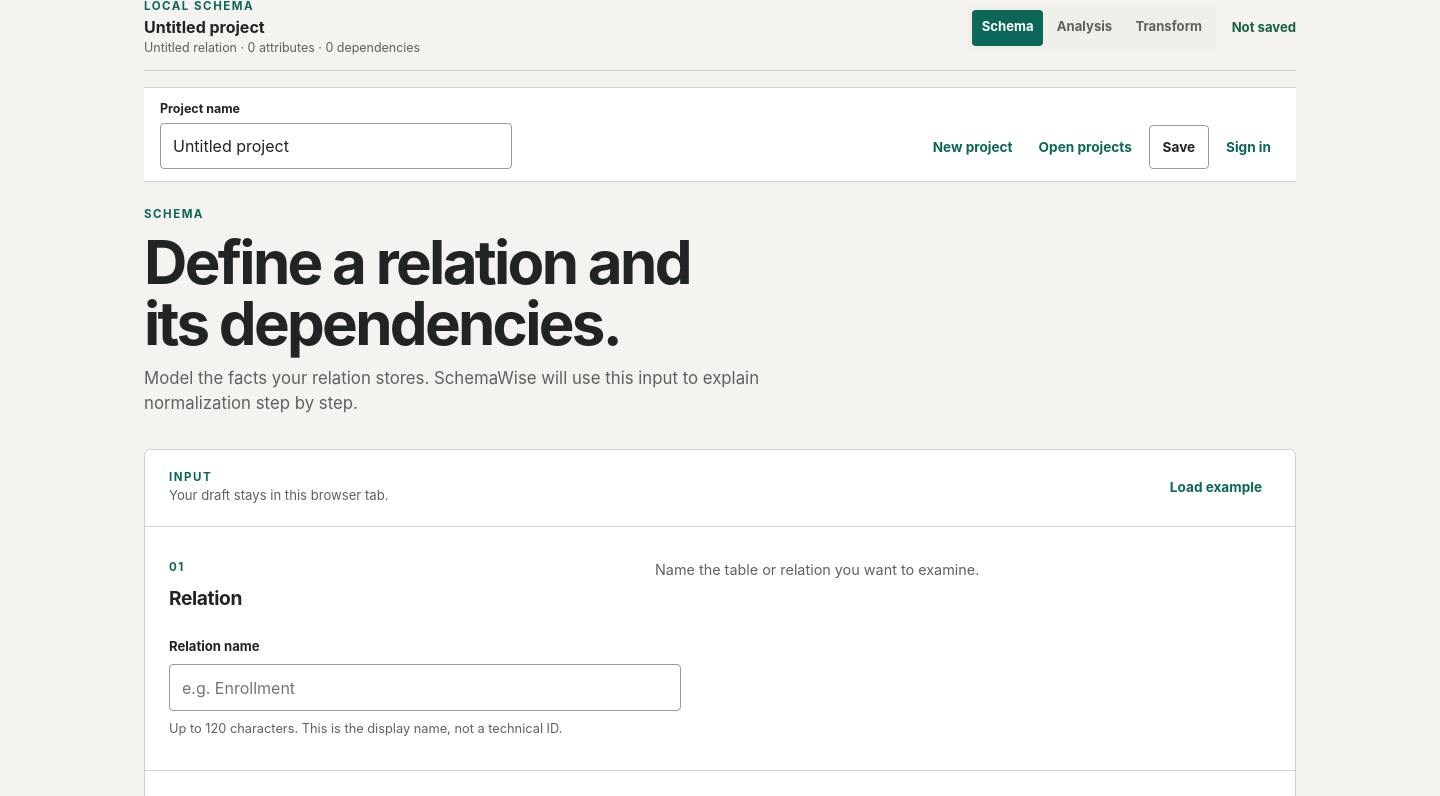
Test: normalization transformations › keeps a stale snapshot without results readable and blocks every generation
The width and height of the screenshot is (1440, 796).
Click the button "Load example" at point(1216, 488), box [1161, 466, 1271, 510]
(page scrolled)
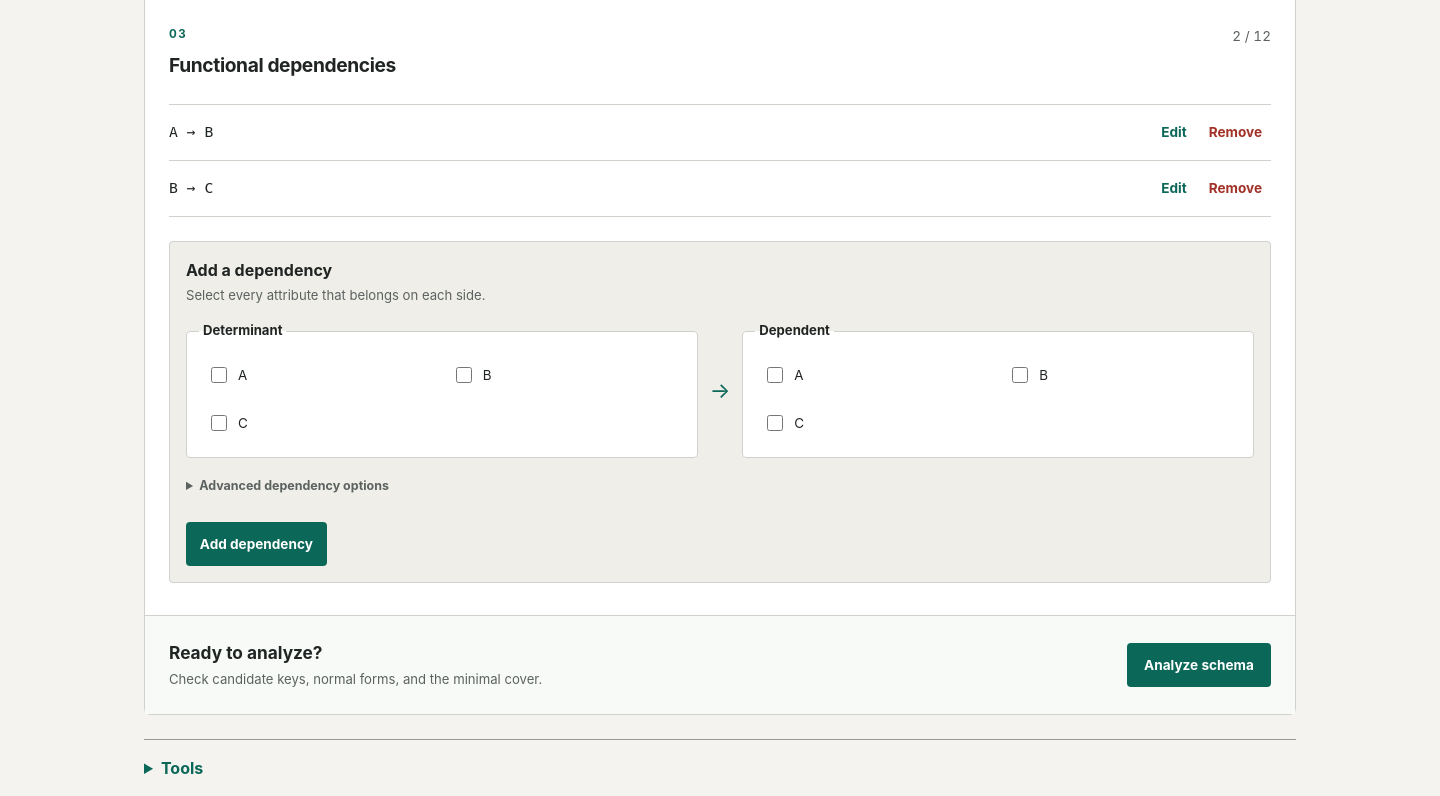
Click the button "Analyze schema" at point(1199, 665), box [1127, 643, 1271, 687]
(page scrolled)
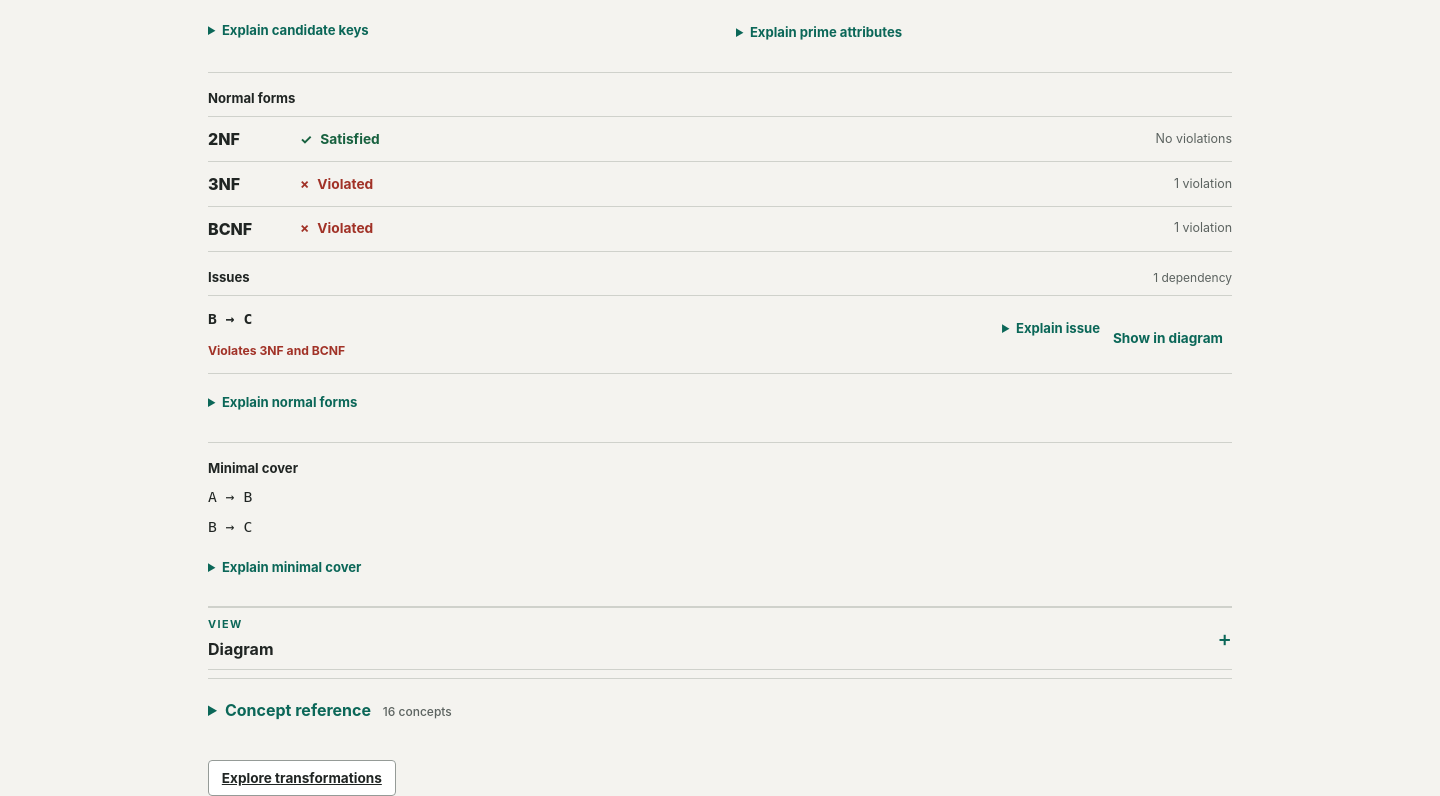
Now the link "Explore transformations" is shown
Click the link "Explore transformations" at point(302, 778), box [208, 760, 396, 795]
(page scrolled)
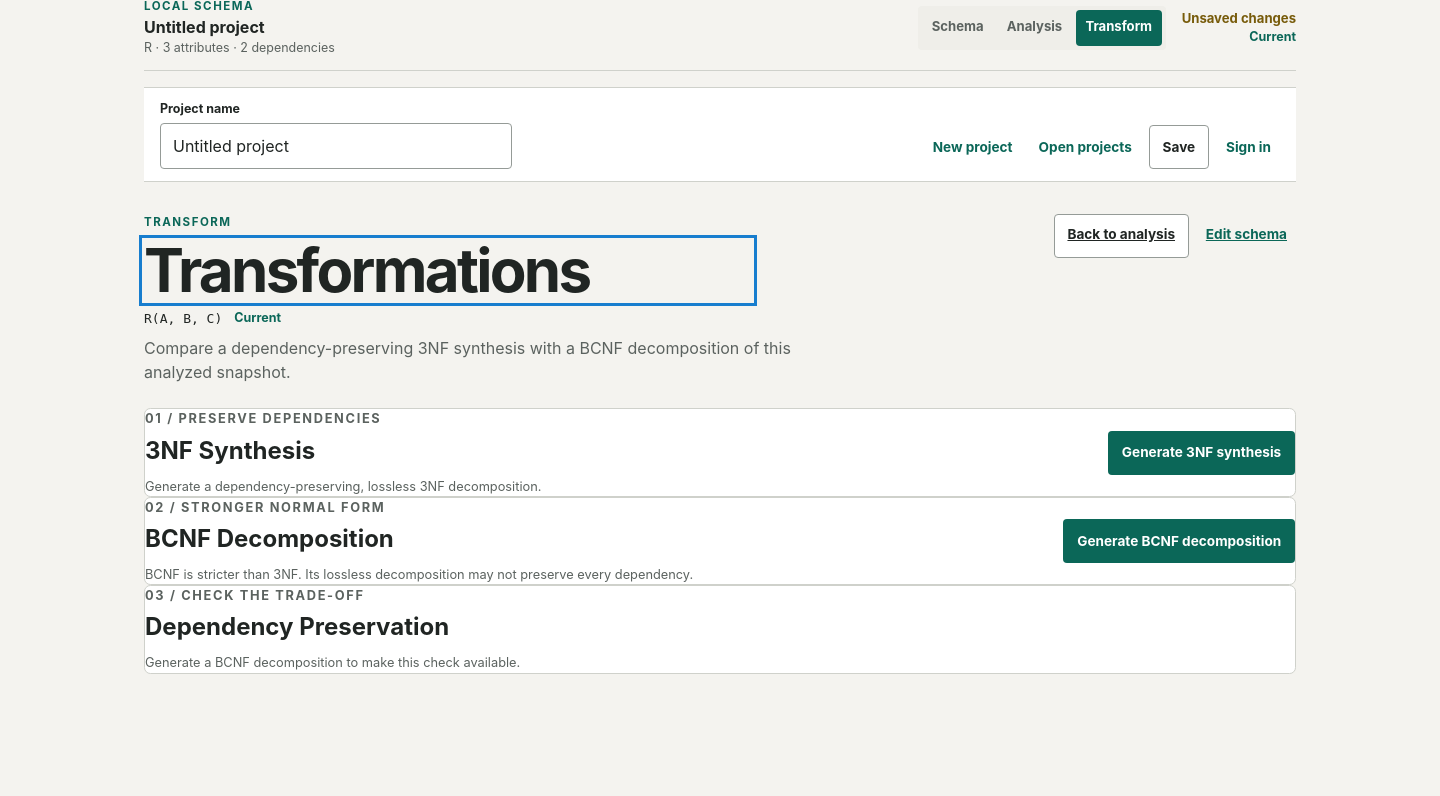
Now the heading "Transformations" is shown, box [144, 234, 589, 306]
Click the link "Edit schema" at point(1246, 234), box [1206, 226, 1287, 242]
(page scrolled)
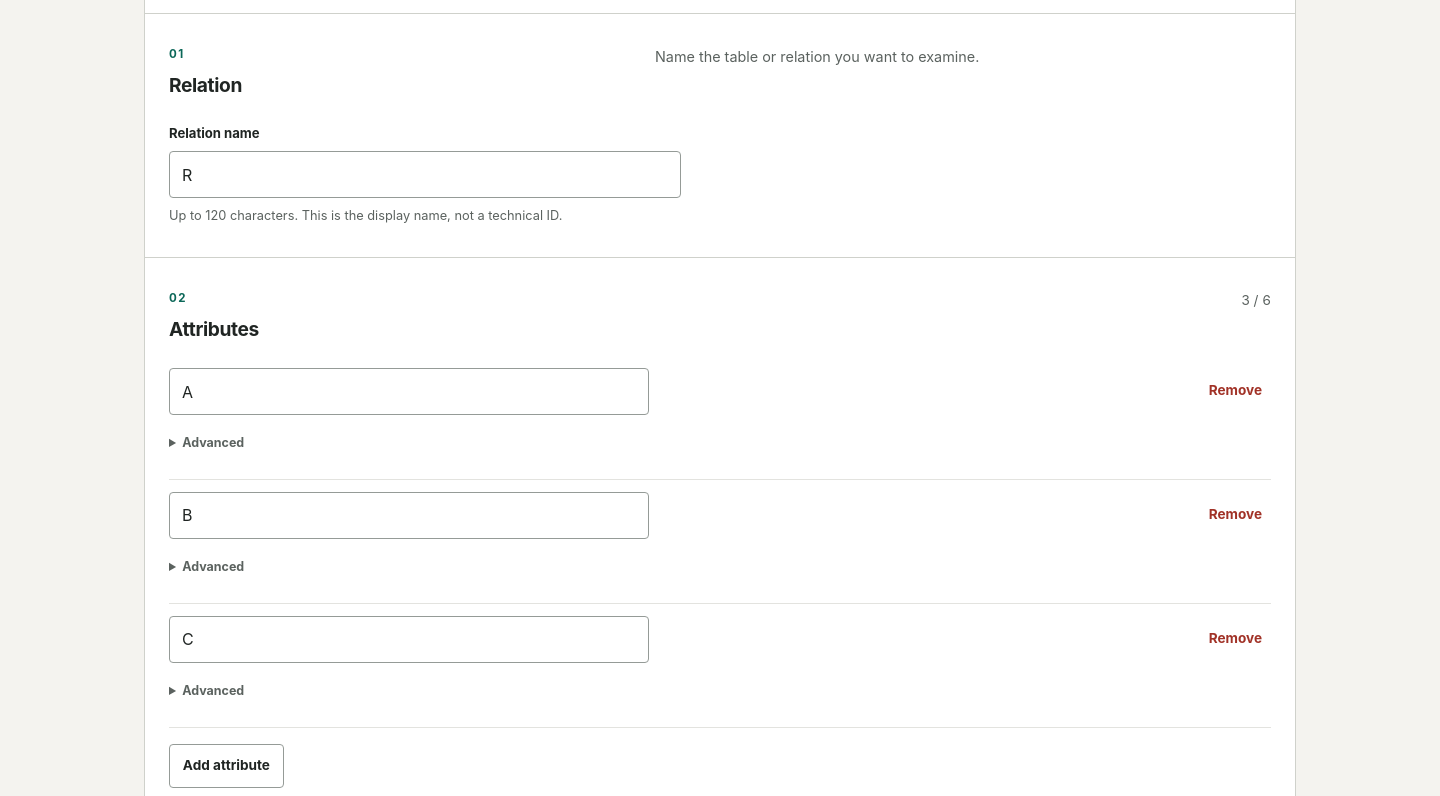
Replace the text in the 1st field named "Attribute 1 name" with "Changed" at point(409, 392), box [169, 368, 649, 415]
(page scrolled)
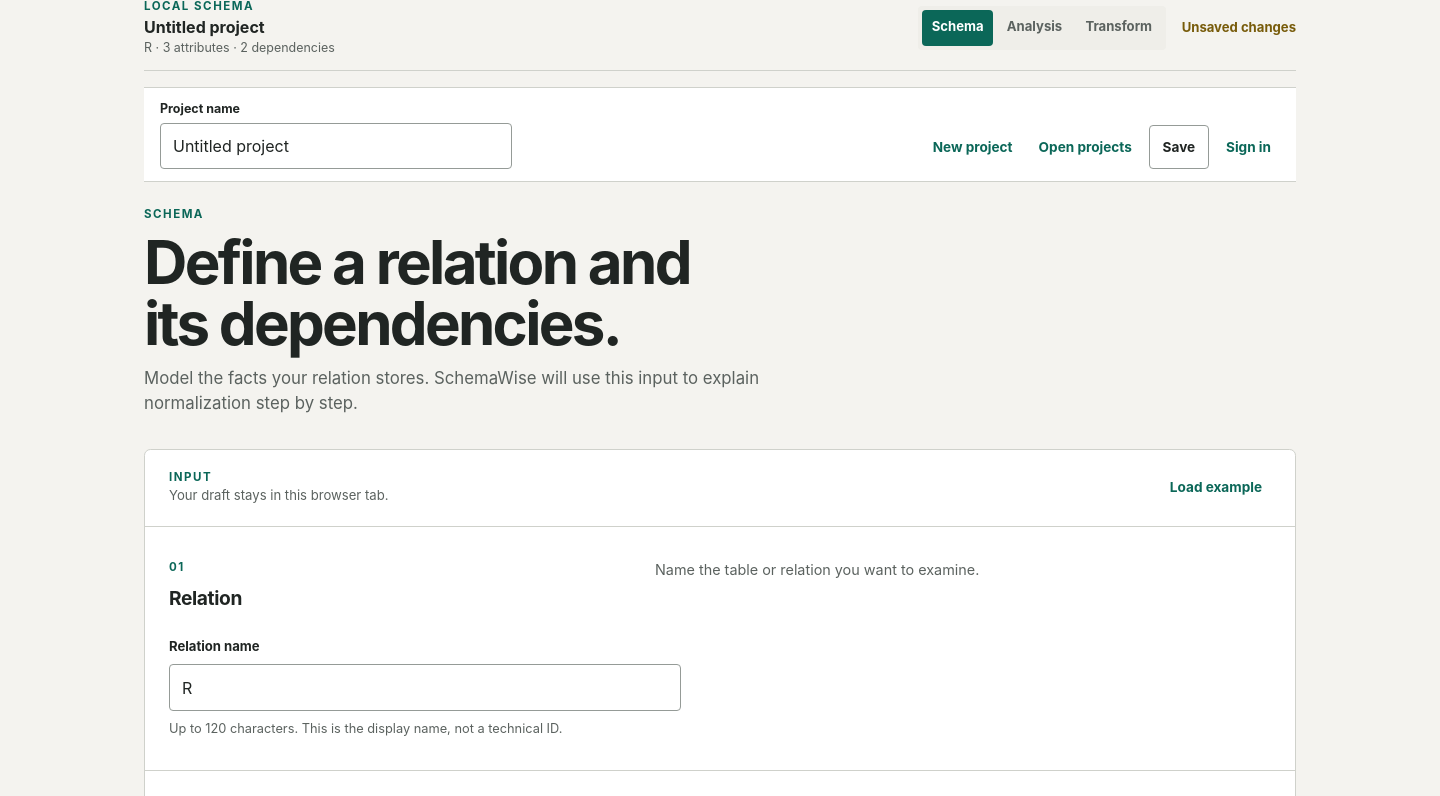
Click the link "Transform" at point(1119, 26), box [1085, 18, 1152, 34]
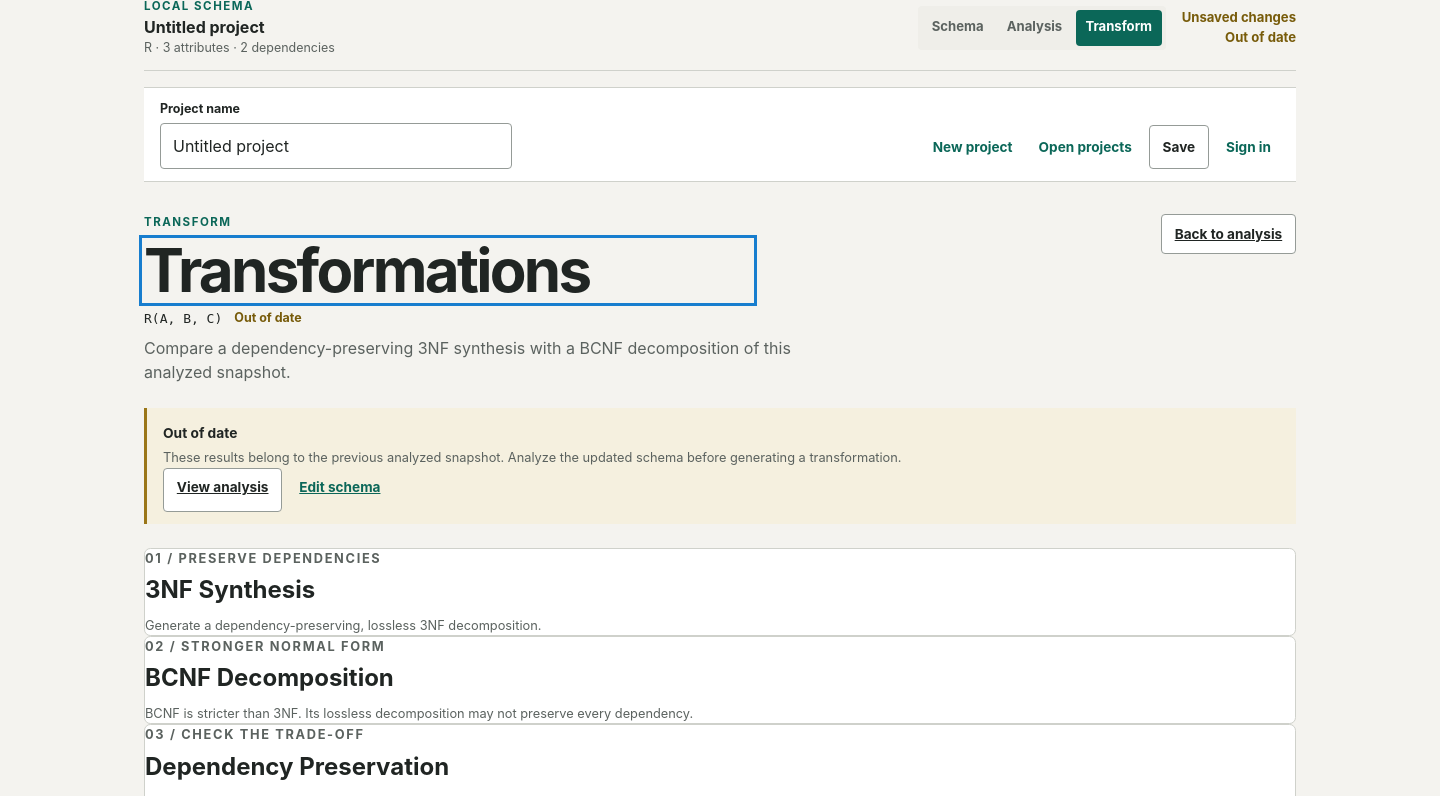
Now the 3rd text "Out of date" is shown, box [163, 425, 237, 441]
Now the text "Analyze the updated schema before generating a transformation" is shown, box [508, 450, 902, 465]
Now the link "View analysis" is shown, box [163, 468, 282, 512]
